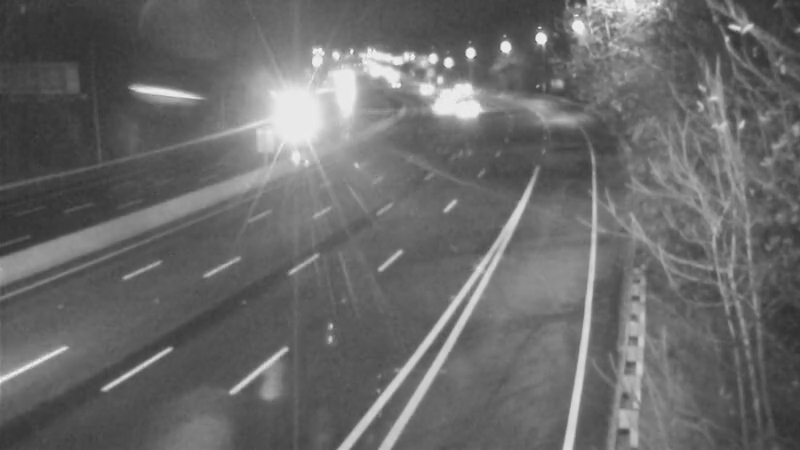vehicle: (368, 57, 418, 107), (398, 65, 448, 115), (438, 60, 488, 110), (422, 68, 472, 118), (417, 84, 467, 134), (448, 86, 498, 136), (273, 88, 323, 138)
